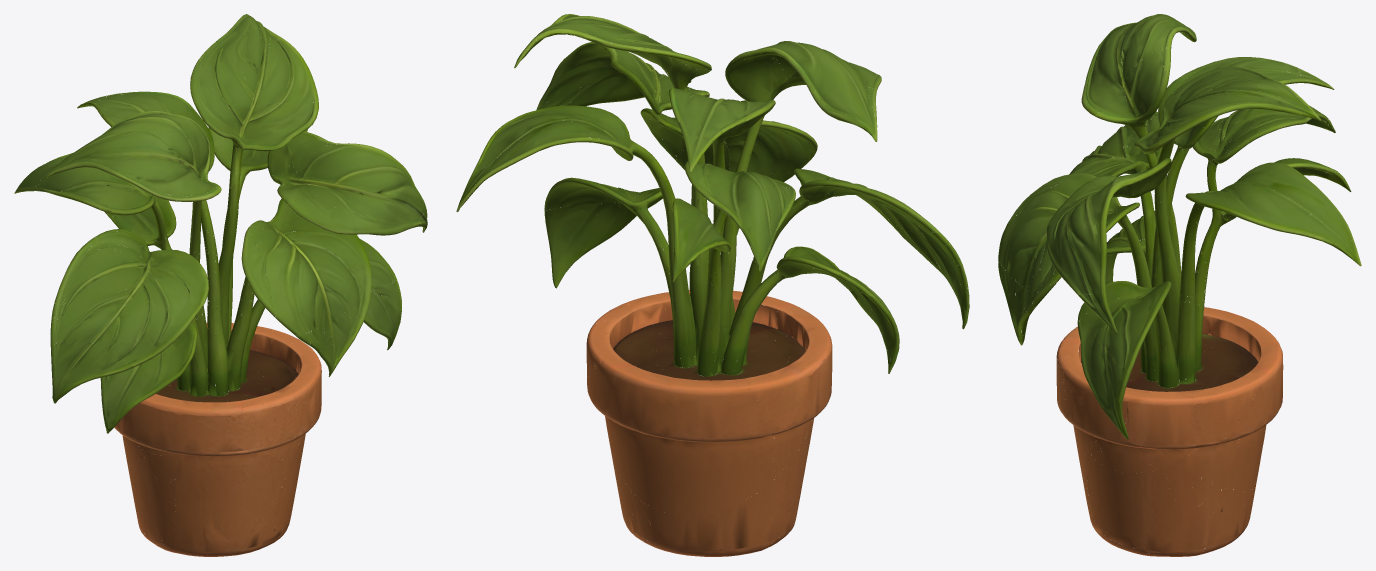
The model's file is plant.glb.
3 views of the same model, side by side, from view 1: azimuth 30°, elevation 25°; view 2: azimuth 150°, elevation 25°; view 3: azimuth 270°, elevation 25° (orthographic). The views are drawn at different scales.
Parts seen in each view (by area): view 1: plant; view 2: plant; view 3: plant.
Boxes of the visible parts, x1,y1,x2,y2 form: plant: [14, 14, 427, 556]; plant: [456, 14, 969, 556]; plant: [998, 14, 1361, 556].
Bounding box in the file's own units: 0.8572 × 0.9787 × 0.6647.
1 material, 1 textured.
